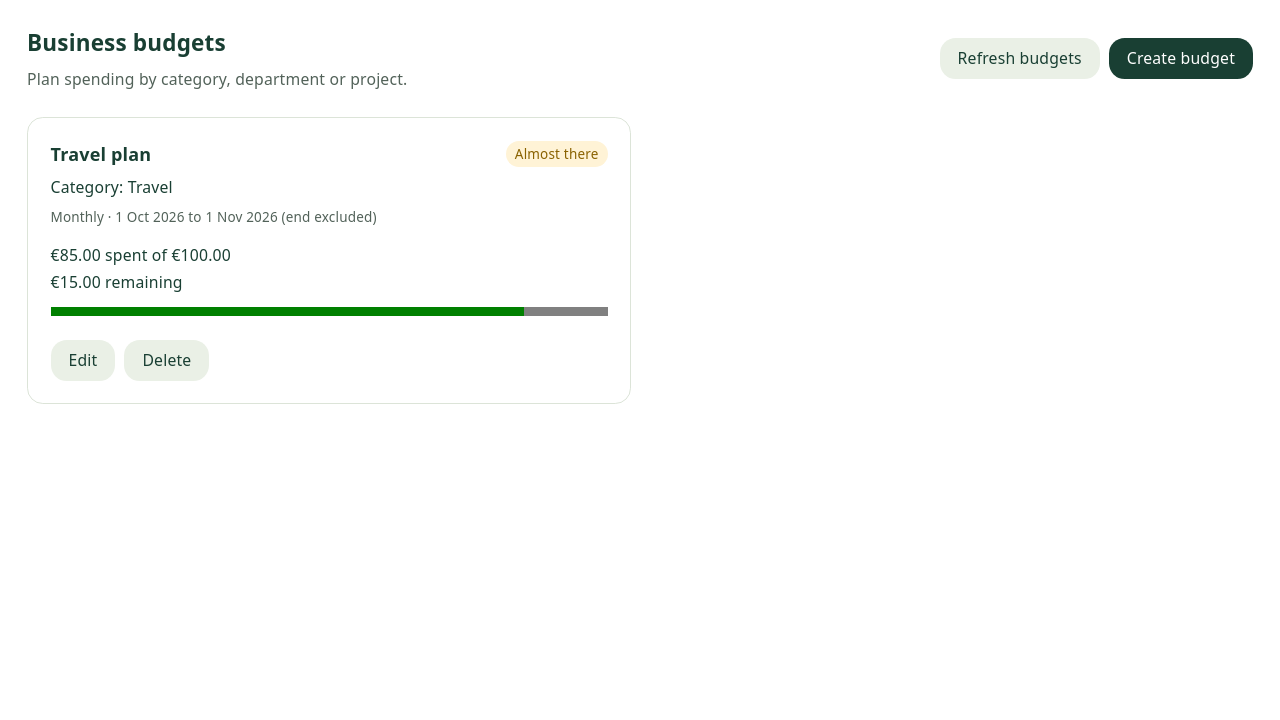
retains a failed save and its input without claiming success
Click the button with aria-label "Edit Travel plan" at point(83, 360), box [50,340,115,381]
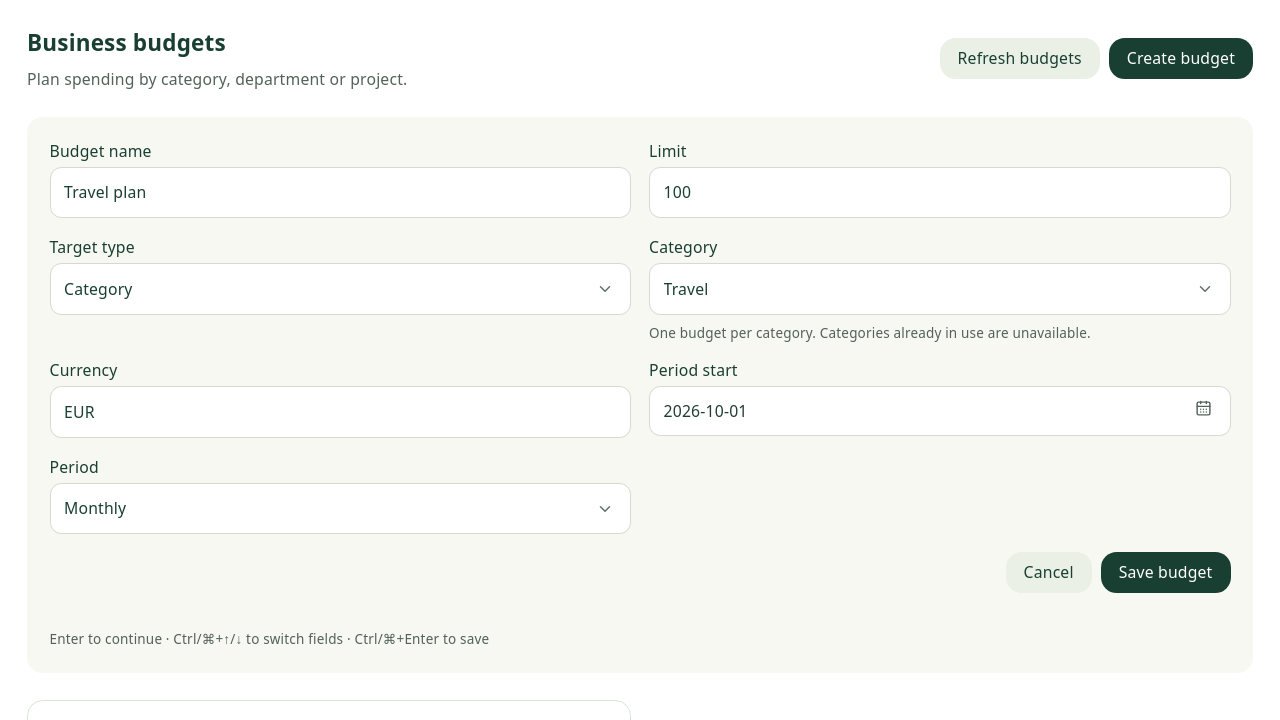
Click the button "Save budget" at point(1166, 573), box [1101,552,1230,593]
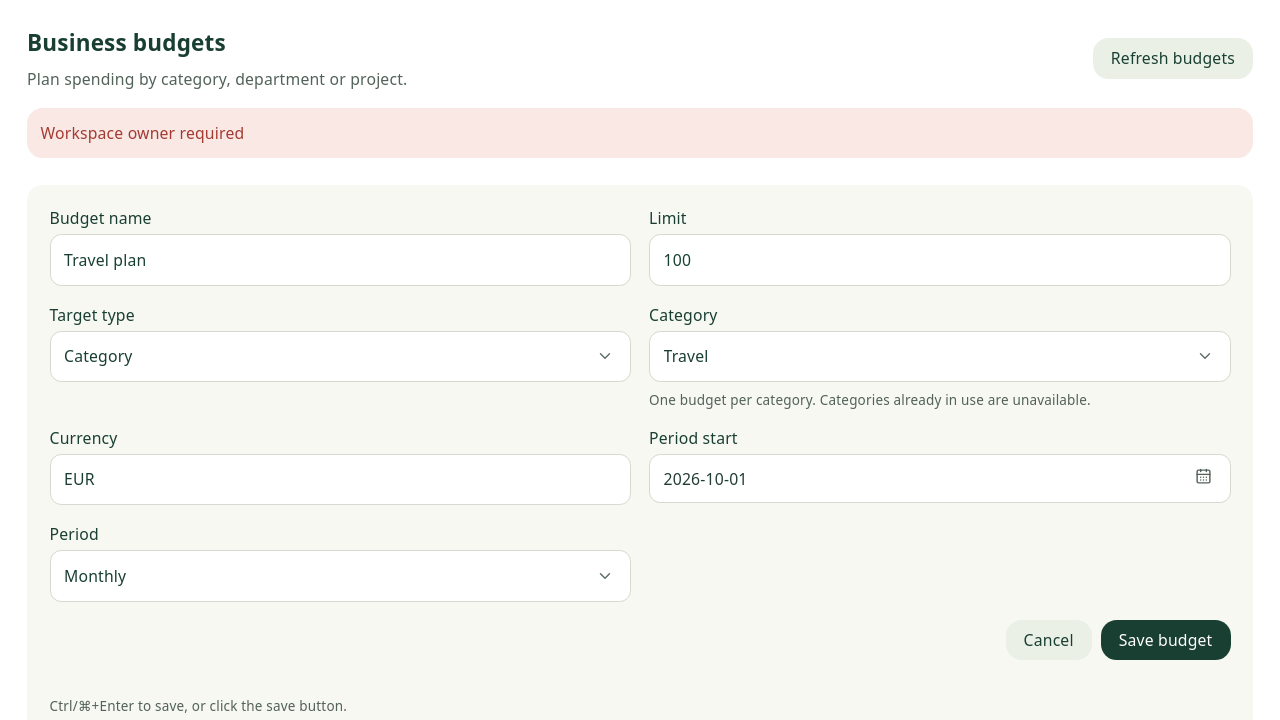
Check: the field labelled "Budget name" holds "Travel plan", box [50,234,631,286]
Check: the message "Workspace owner required" is shown, box [27,108,1253,158]
